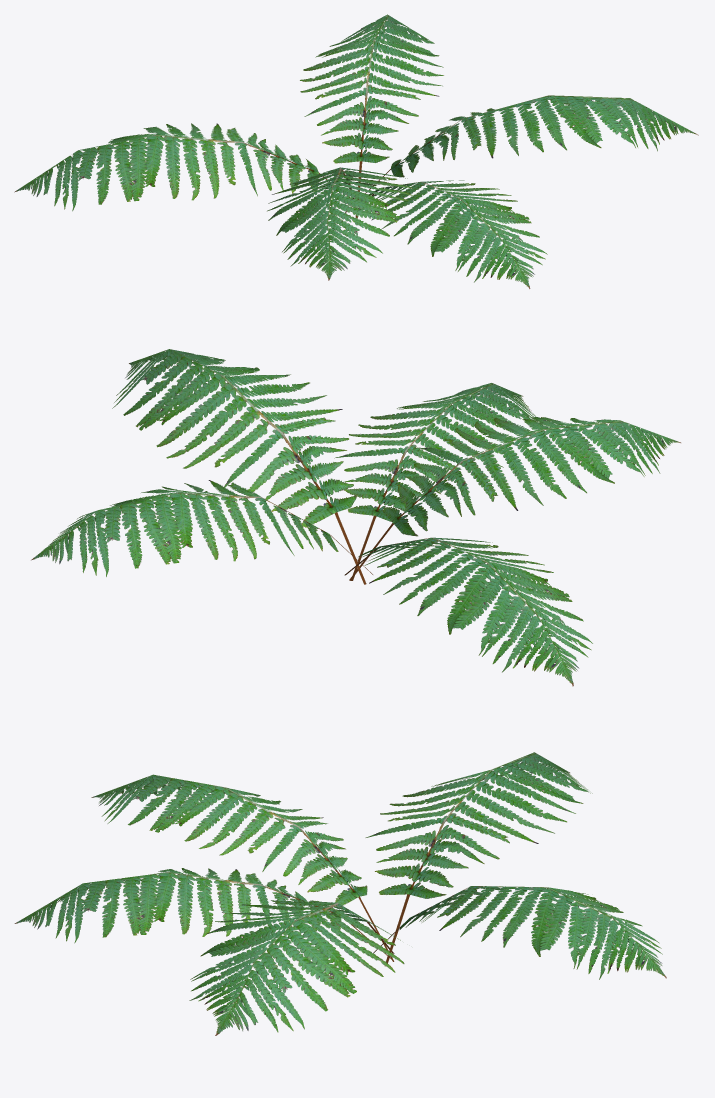
The model's file is Fern_02_02.obj.
The picture shows the model from 3 angles, top to bottom: view 1: azimuth 30°, elevation 25°; view 2: azimuth 150°, elevation 25°; view 3: azimuth 270°, elevation 25°; orthographic projection. The views are drawn at different scales.
Parts seen in each view (by area): view 1: polySurface11; view 2: polySurface11; view 3: polySurface11.
Part boxes in pixels (x1,y1,x2,y2): polySurface11: [14, 14, 698, 288]; polySurface11: [31, 349, 680, 686]; polySurface11: [14, 752, 666, 1035].
Size of the model in its own units: 28.2 by 5.31 by 25.16.
Materials: 1 (1 with a texture image).
